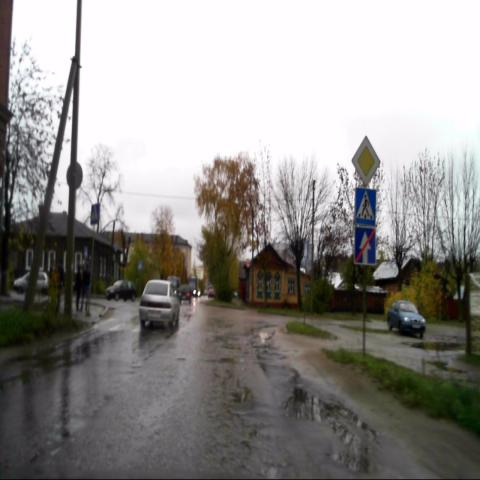5_6: (354, 229, 375, 264)
